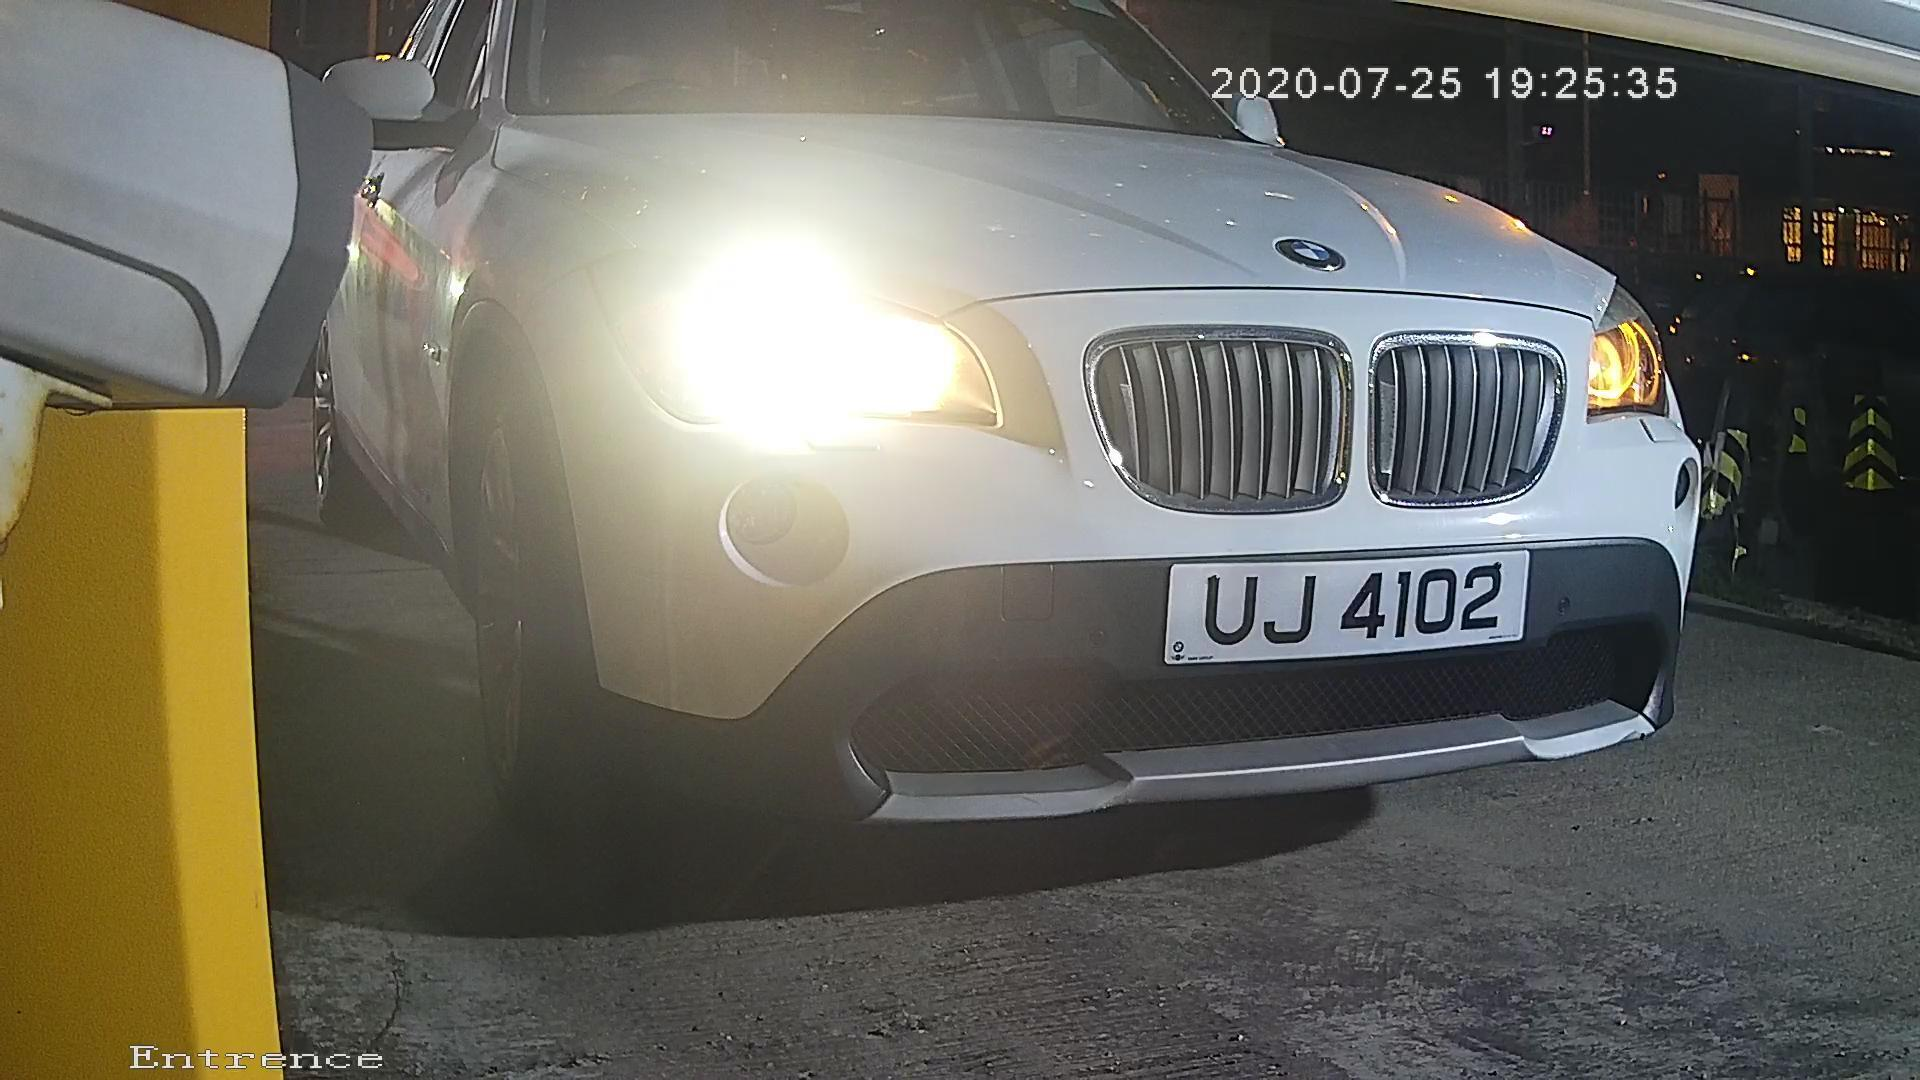privatecar: (378, 15, 1716, 878)
